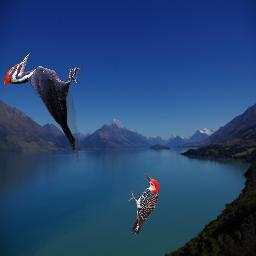Woodpecker: (4, 52, 82, 162), (127, 173, 159, 234)
